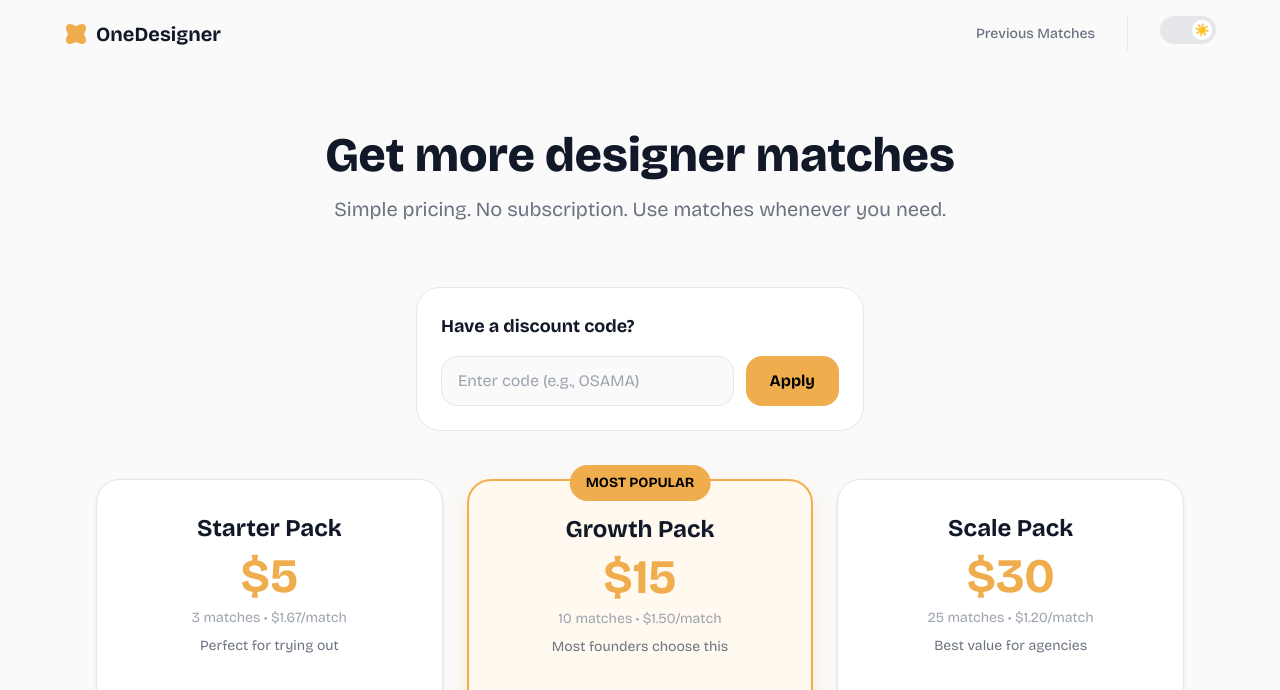
Test: Client Journey with OSAMA Discount Code › should handle discount code edge cases
The width and height of the screenshot is (1280, 690).
In the field with test id "discount-code-input": (588, 381) left=441, top=356, right=734, bottom=406, type "INVALID"
Click the button with test id "apply-discount-btn": (793, 381) left=746, top=356, right=839, bottom=406
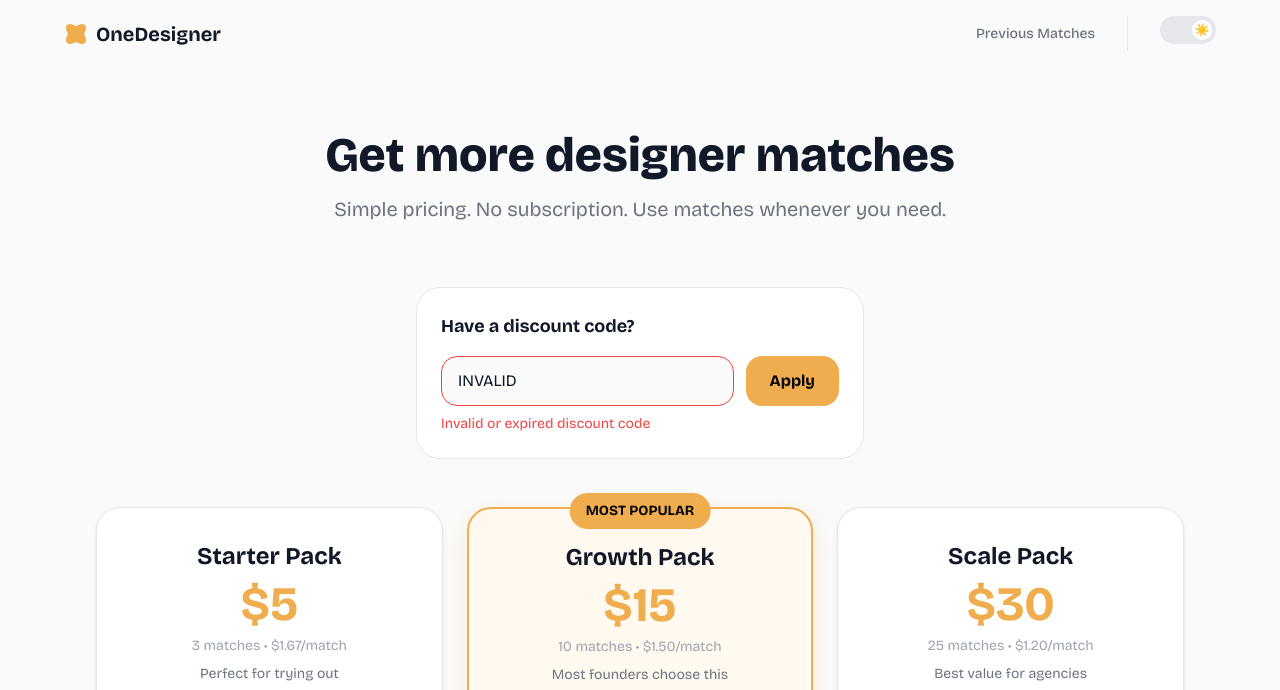
Check: the text "Invalid or expired discount code" is shown, box left=441, top=415, right=650, bottom=432
Clear the field with test id "discount-code-input": (588, 381) left=441, top=356, right=734, bottom=406
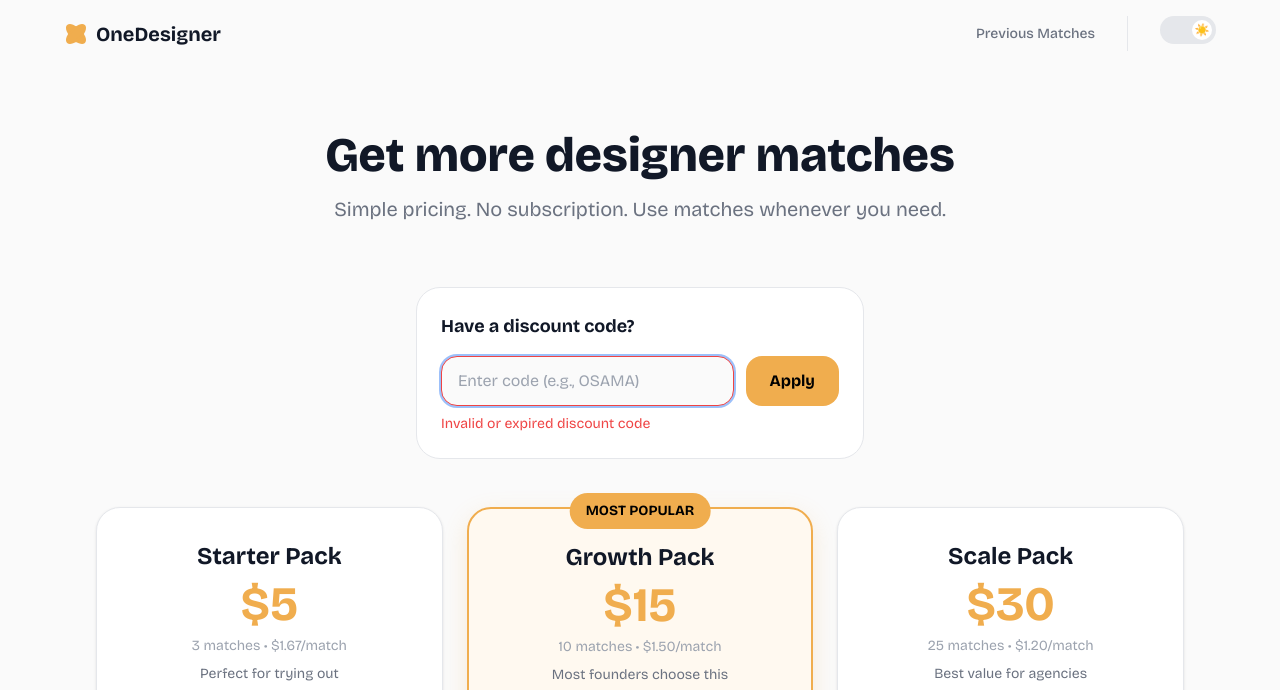
Click the button with test id "apply-discount-btn": (793, 381) left=746, top=356, right=839, bottom=406
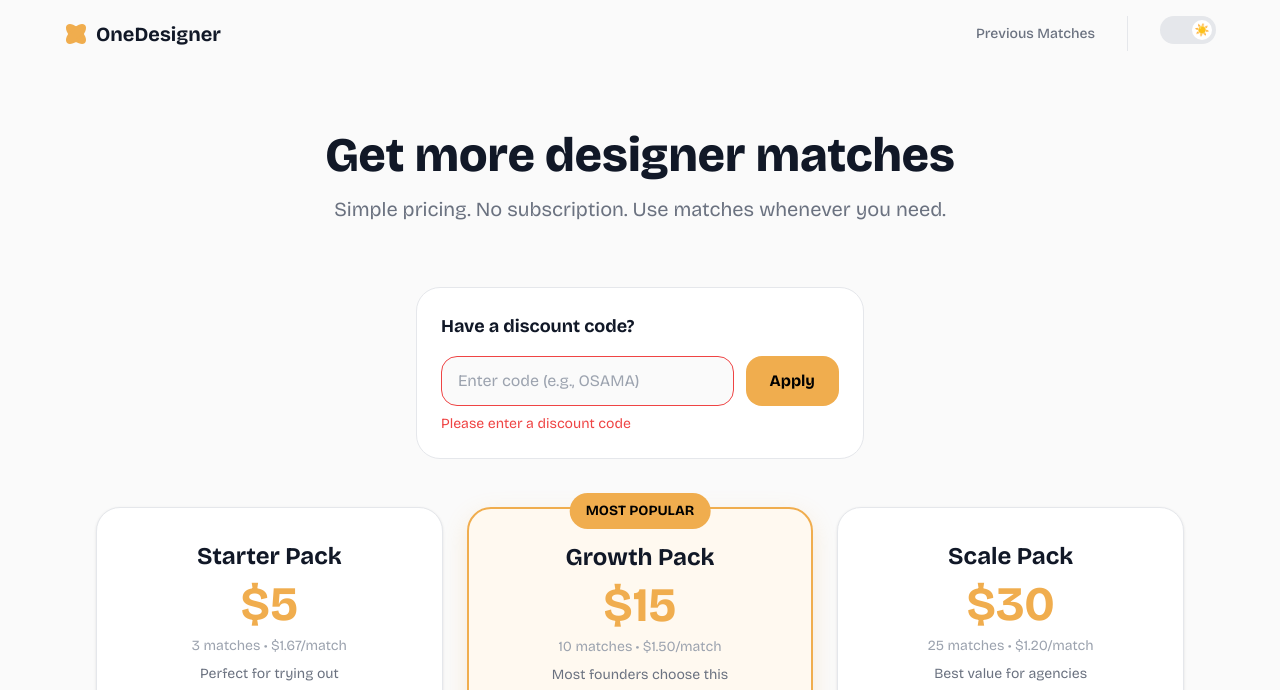
Check: the text "Please enter a discount code" is shown, box left=441, top=415, right=631, bottom=432
In the field with test id "discount-code-input": (588, 381) left=441, top=356, right=734, bottom=406, type "osama"
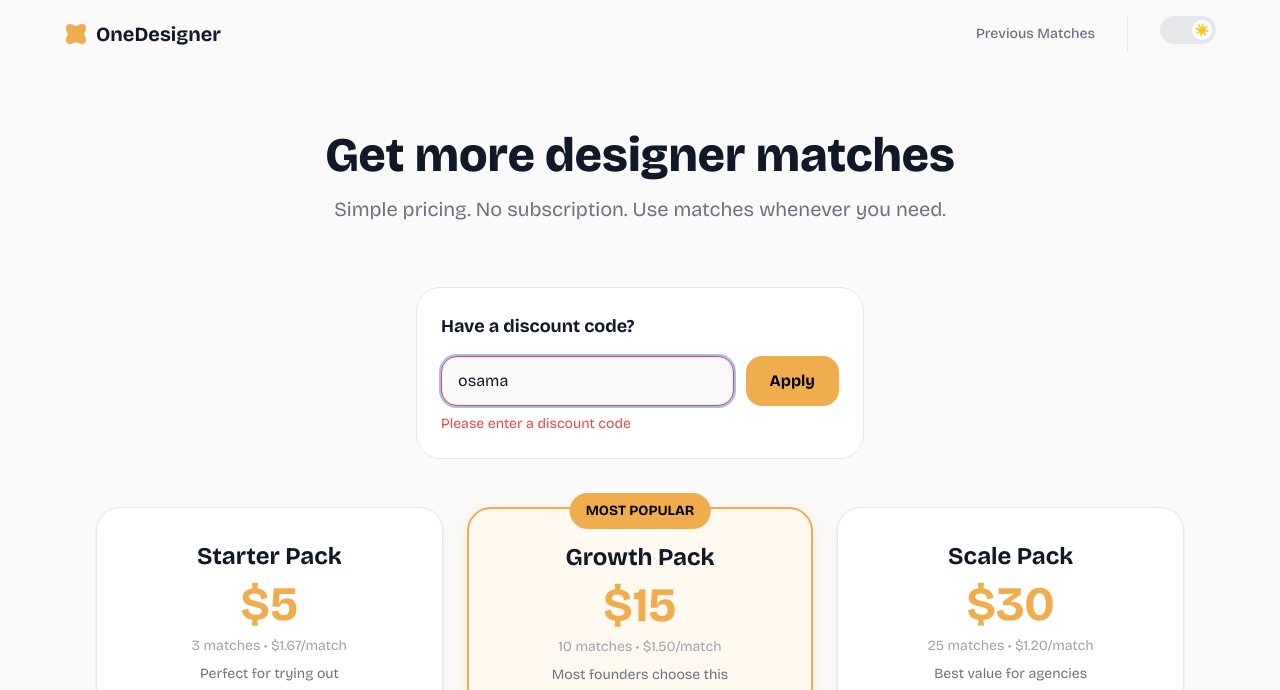
Click the button with test id "apply-discount-btn": (793, 381) left=746, top=356, right=839, bottom=406
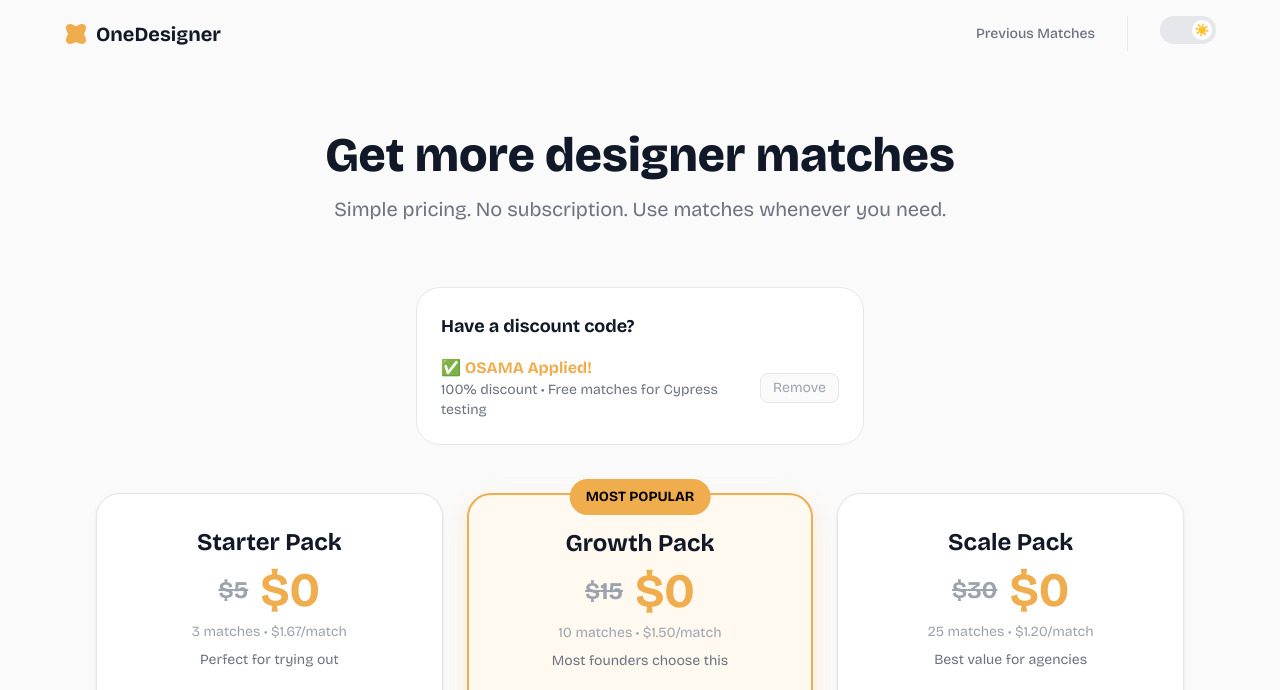
Check: the text "✅ OSAMA Applied!" is shown, box left=441, top=358, right=592, bottom=377
Click the button with test id "remove-discount-btn": (800, 388) left=760, top=373, right=839, bottom=403
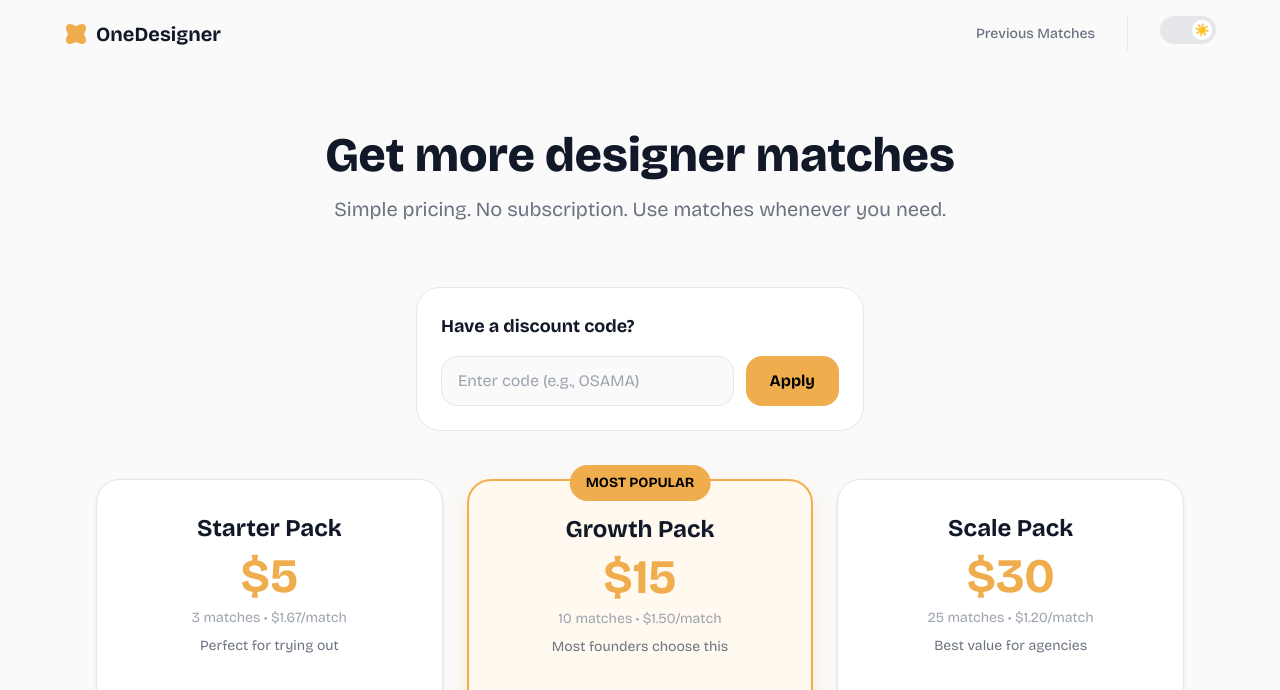
Check: the text "✅ OSAMA Applied!" is gone
